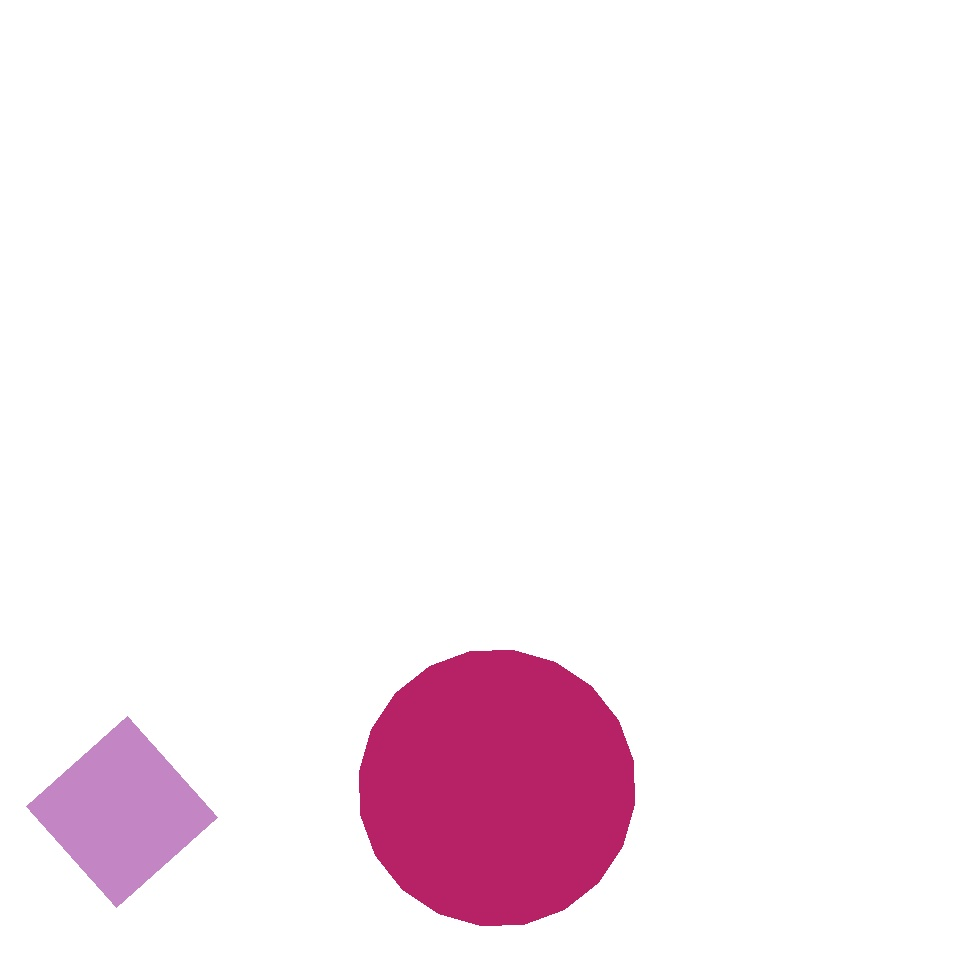circle: (144, 282, 458, 578)
square: (126, 182, 408, 464), (26, 716, 218, 908), (430, 49, 597, 216)
triangle: (360, 650, 634, 925)
